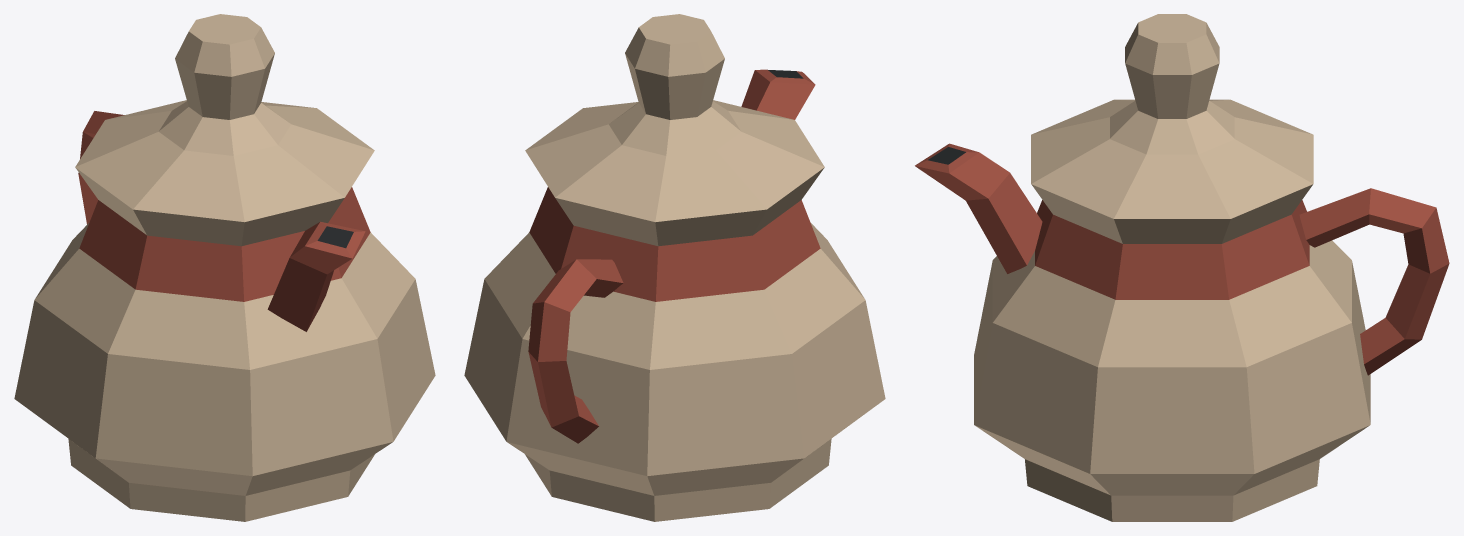
File: SM_Prop_TeaPot_02.glb
The picture shows the model from 3 angles, left to right: view 1: azimuth 30°, elevation 25°; view 2: azimuth 150°, elevation 25°; view 3: azimuth 270°, elevation 25°; orthographic projection.
Parts seen in each view (by area): view 1: SM_Prop_TeaPot_02; view 2: SM_Prop_TeaPot_02; view 3: SM_Prop_TeaPot_02.
Boxes of the visible parts, left/top/right/bottom form: SM_Prop_TeaPot_02: left=14, top=14, right=435, bottom=521; SM_Prop_TeaPot_02: left=464, top=14, right=885, bottom=521; SM_Prop_TeaPot_02: left=915, top=14, right=1449, bottom=521.
Size of the model in its own units: 0.2926 by 0.3518 by 0.3946.
Materials: 1 (1 with a texture image).
